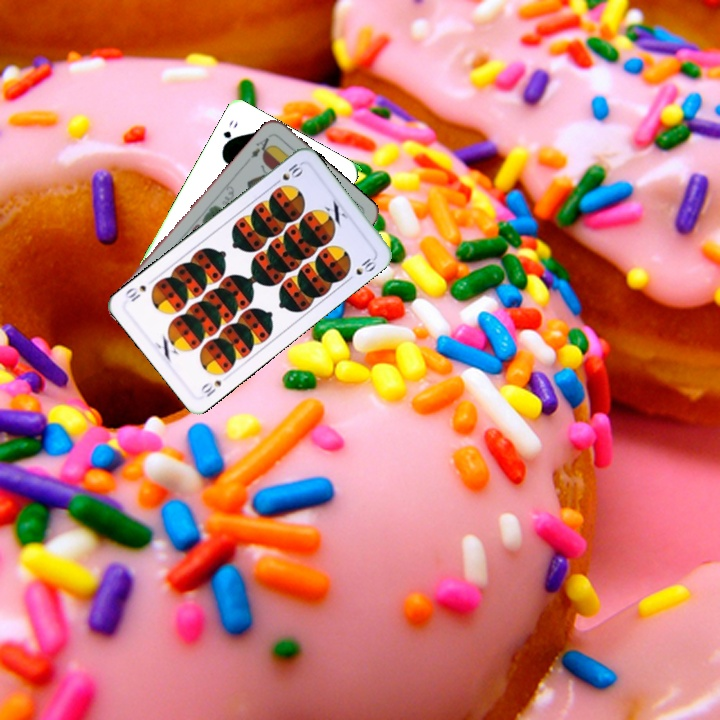EA: (247, 133, 275, 161)
GO: (219, 116, 241, 152)
S10: (269, 159, 306, 188), (197, 376, 224, 400)
